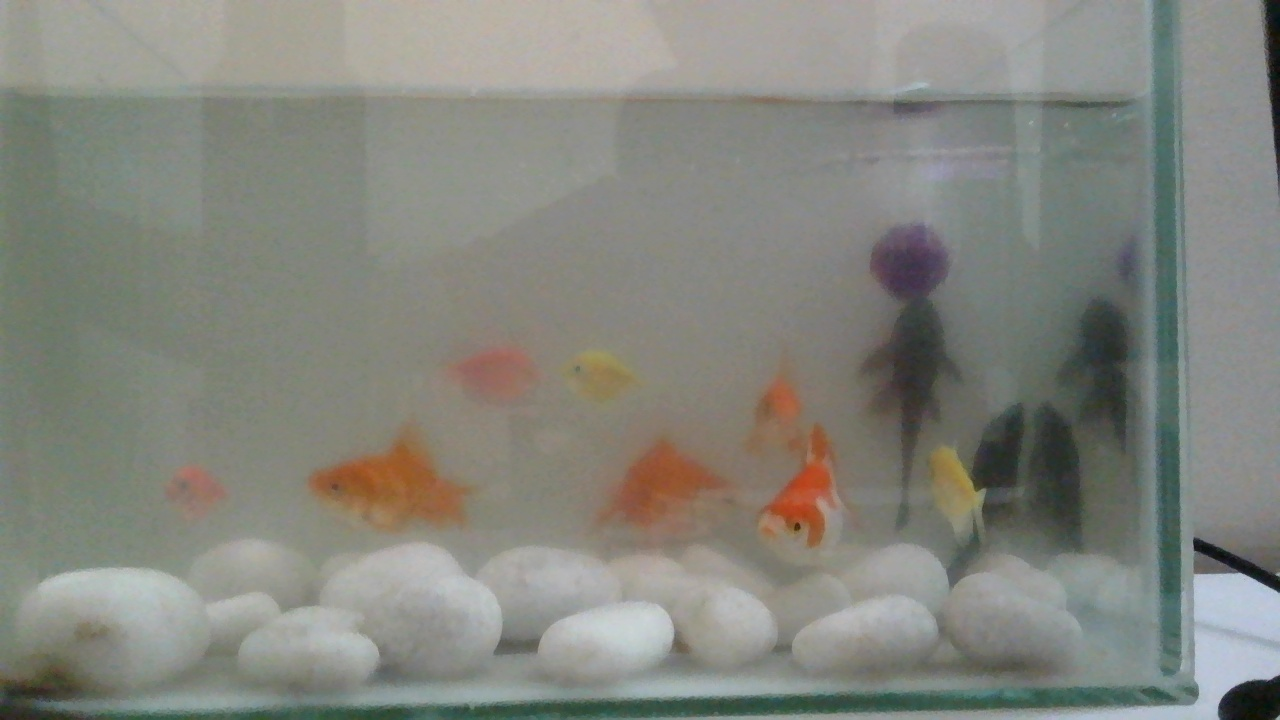fish: (919, 440, 988, 569)
